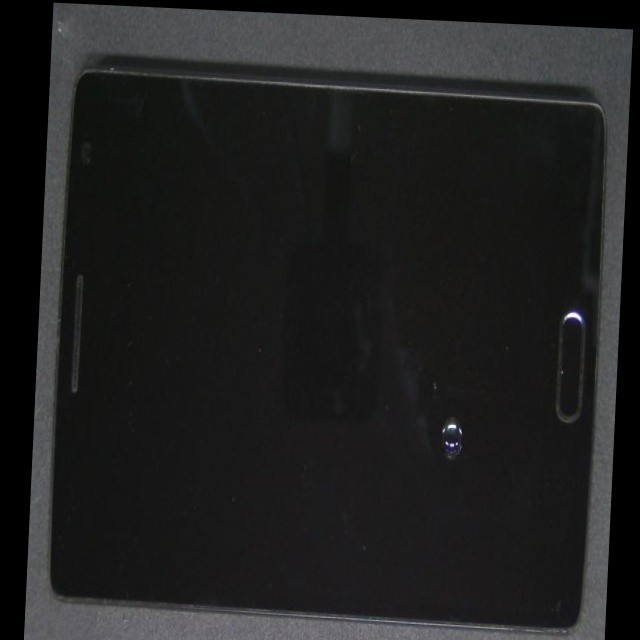oil: (218, 207, 624, 640)
